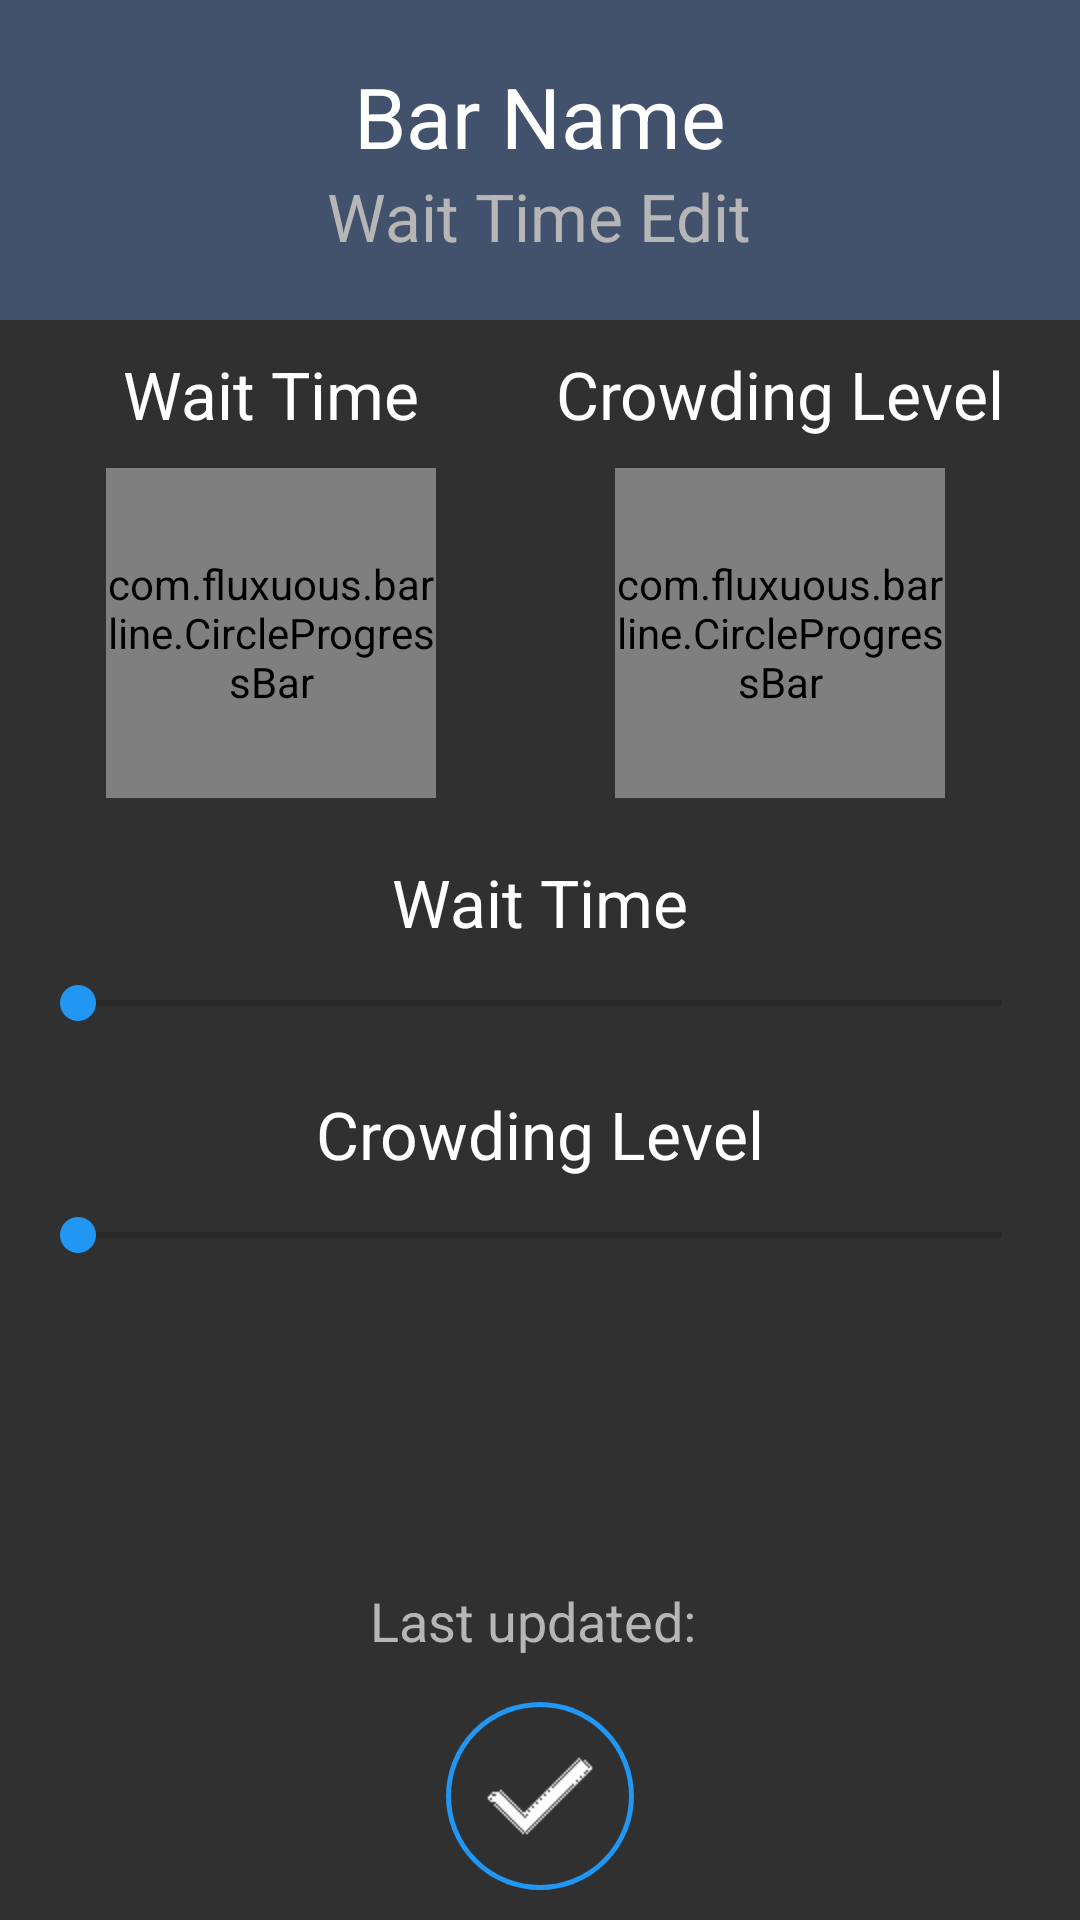

Screen size 1080 × 1920. Icon name, then its center in pixels as (x=x, y=y):
checkmark: (x=540, y=1796)
